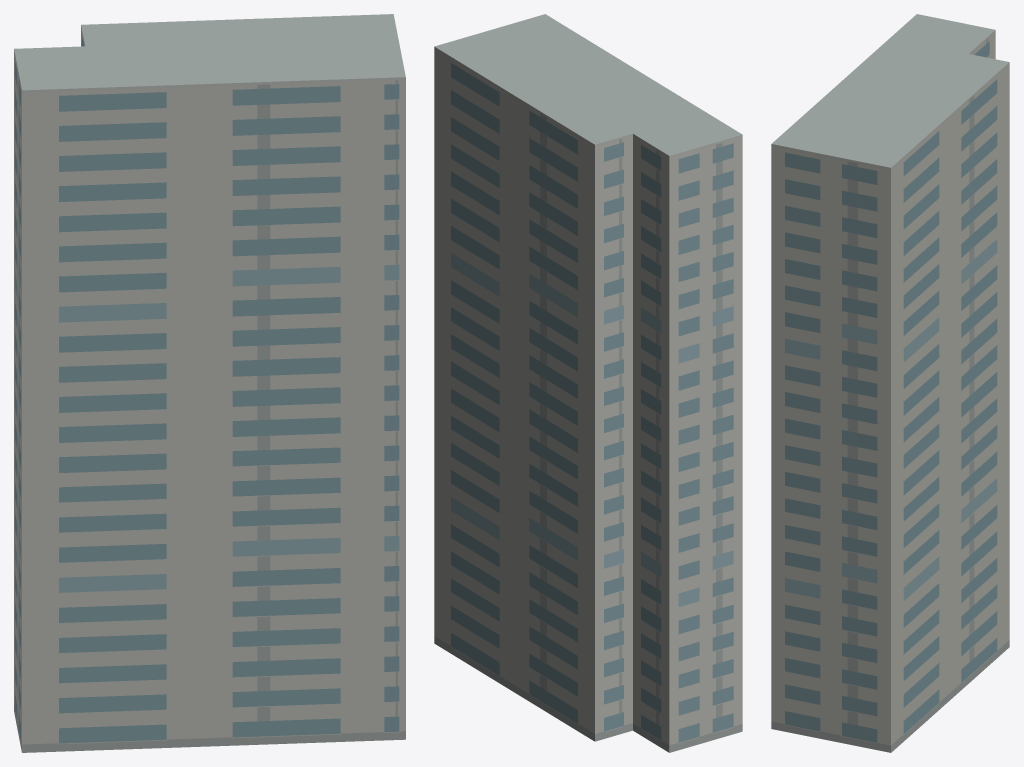
Rendered from residential-cc62b7a9-e56a-4672-90a8-15c1f9128074.glb.
The picture shows the model from 3 angles, left to right: view 1: azimuth 30°, elevation 25°; view 2: azimuth 150°, elevation 25°; view 3: azimuth 270°, elevation 25°; orthographic projection. The views are drawn at different scales.
Visible parts, largest first — view 1: residential-cc62b7a9-e56a-4672-90a8-15c1f9128074.tmp; view 2: residential-cc62b7a9-e56a-4672-90a8-15c1f9128074.tmp; view 3: residential-cc62b7a9-e56a-4672-90a8-15c1f9128074.tmp.
Part boxes in pixels (bbox=[...]): residential-cc62b7a9-e56a-4672-90a8-15c1f9128074.tmp: bbox=[14, 14, 405, 752]; residential-cc62b7a9-e56a-4672-90a8-15c1f9128074.tmp: bbox=[434, 14, 742, 752]; residential-cc62b7a9-e56a-4672-90a8-15c1f9128074.tmp: bbox=[771, 14, 1009, 752].
Bounding box in the file's own units: 37.85 × 67.1 × 24.78.
